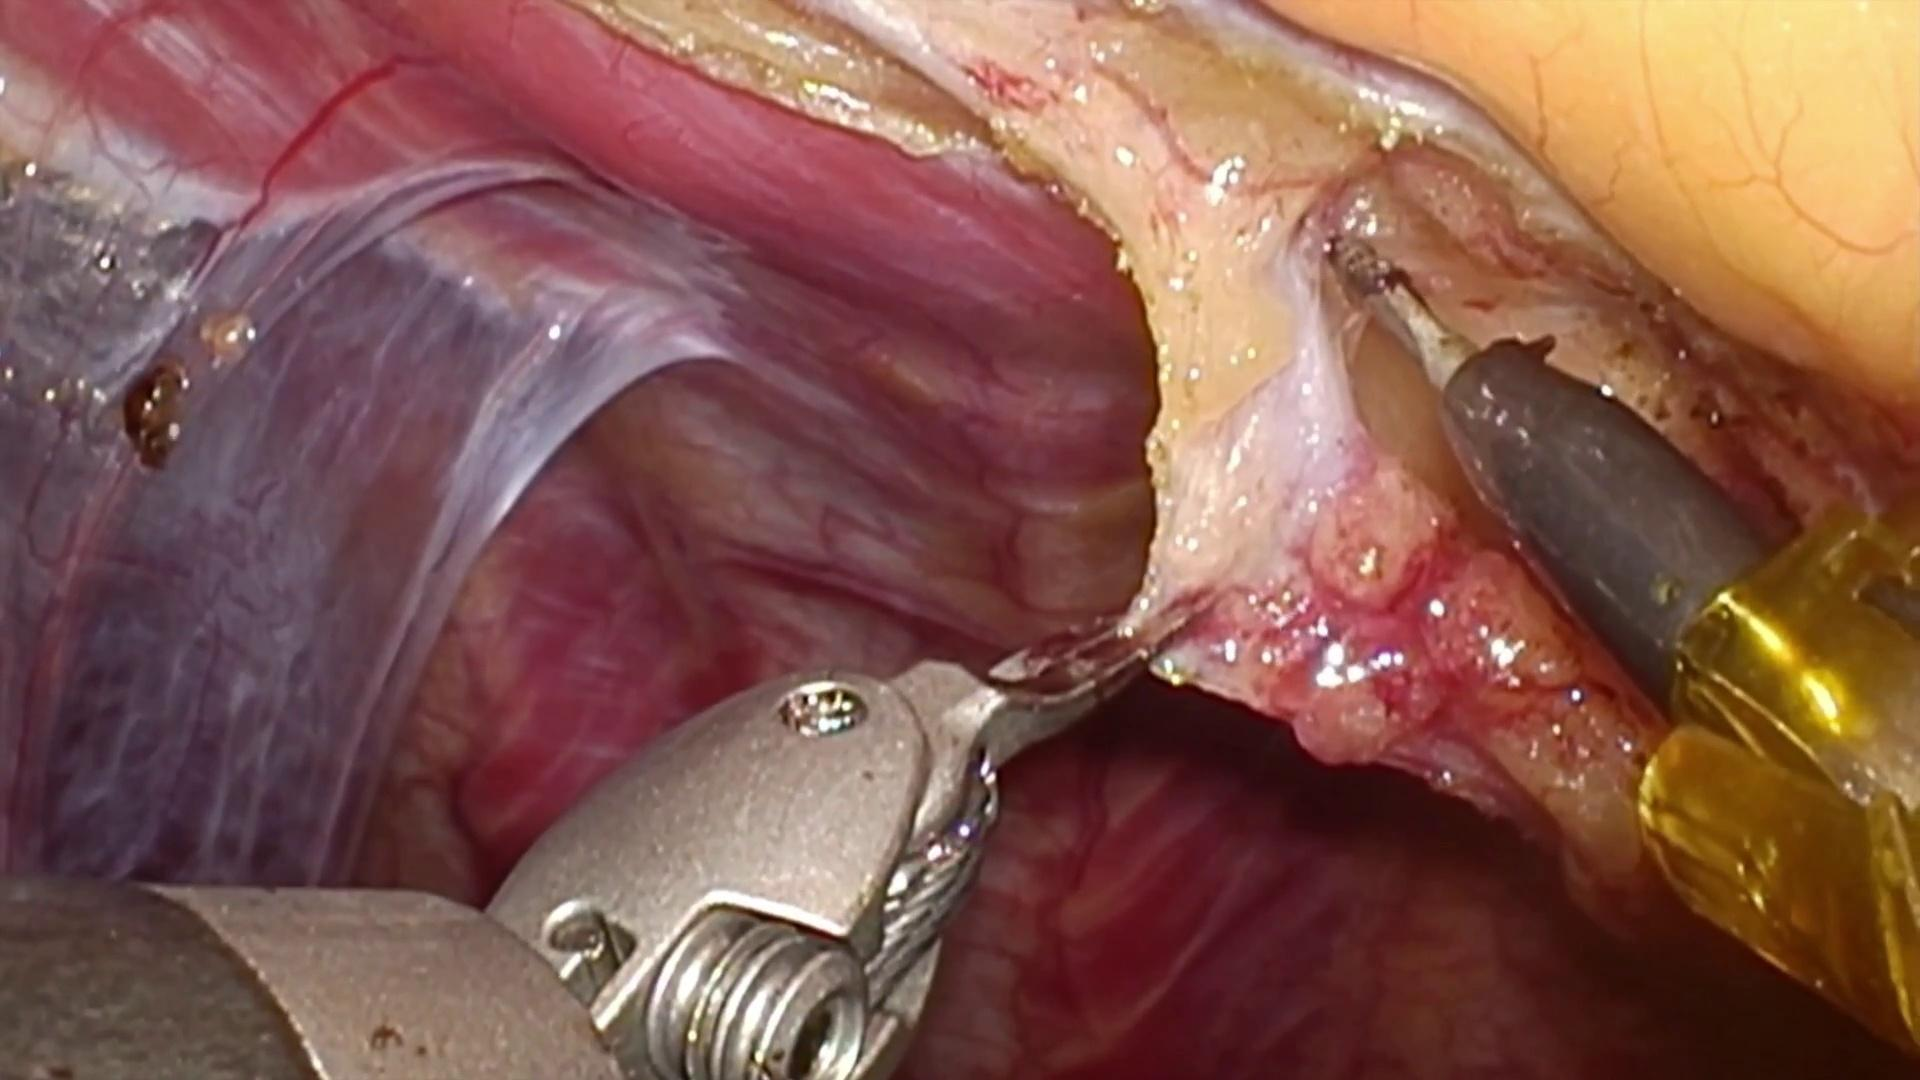Cautery_Spatula: (1328, 232, 1785, 737)
Debakey: (882, 545, 1230, 808)
